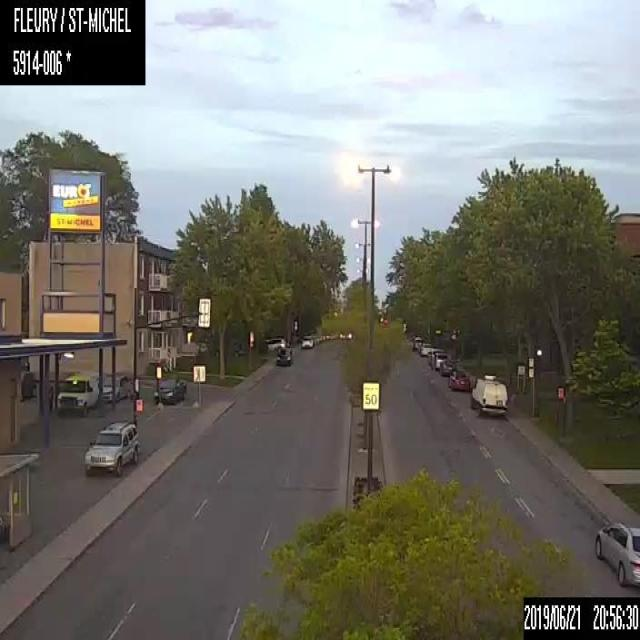vehicle: (593, 519, 639, 592), (83, 419, 138, 479), (56, 373, 98, 415), (470, 374, 509, 416), (101, 372, 132, 404), (154, 378, 186, 407), (448, 367, 472, 391), (429, 350, 448, 372), (275, 346, 291, 366), (439, 360, 455, 376), (300, 335, 314, 348)
